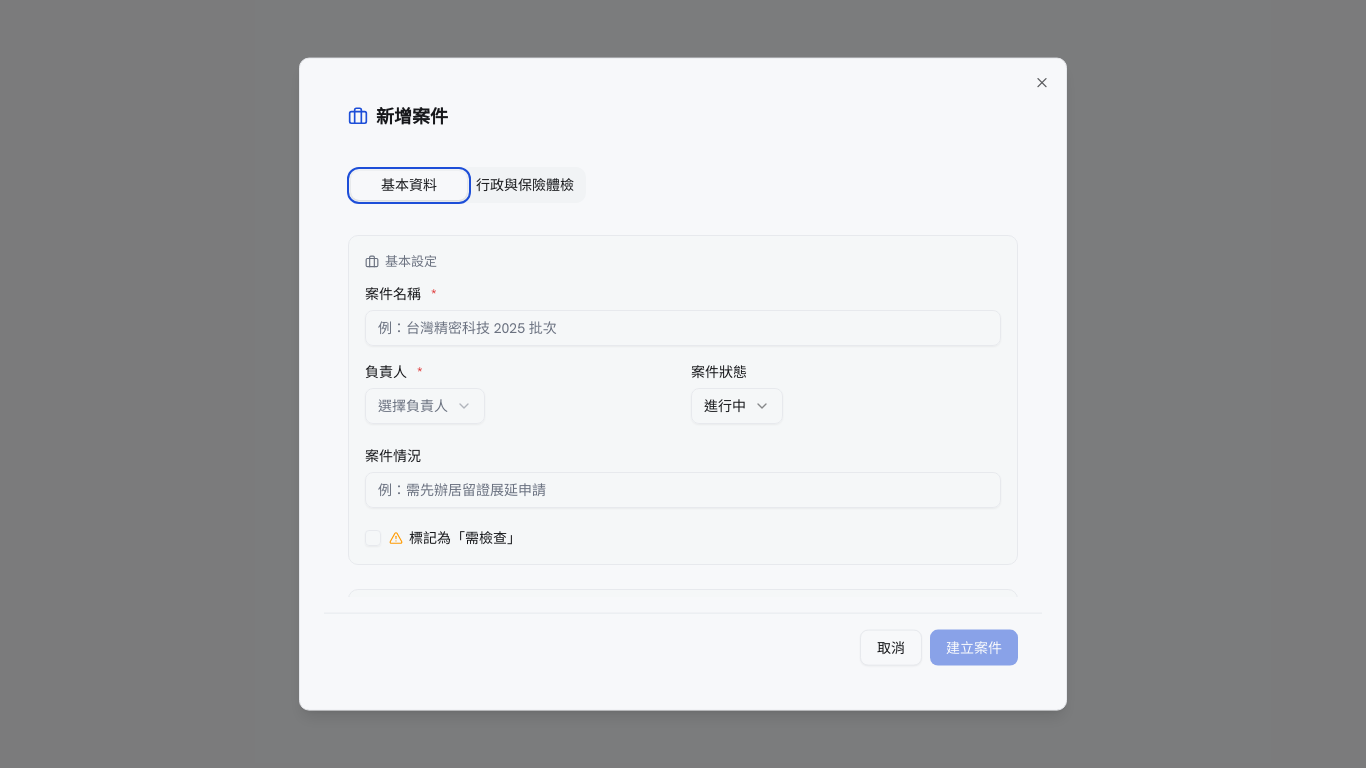
Test: CaseModal 的必填判斷 › 名稱只有 1 字時，tooltip 會說明至少要 2 字
Type "王" into the field with placeholder "例：台灣精密科技 2025 批次" at point(683, 327), box [365,309,1001,345]
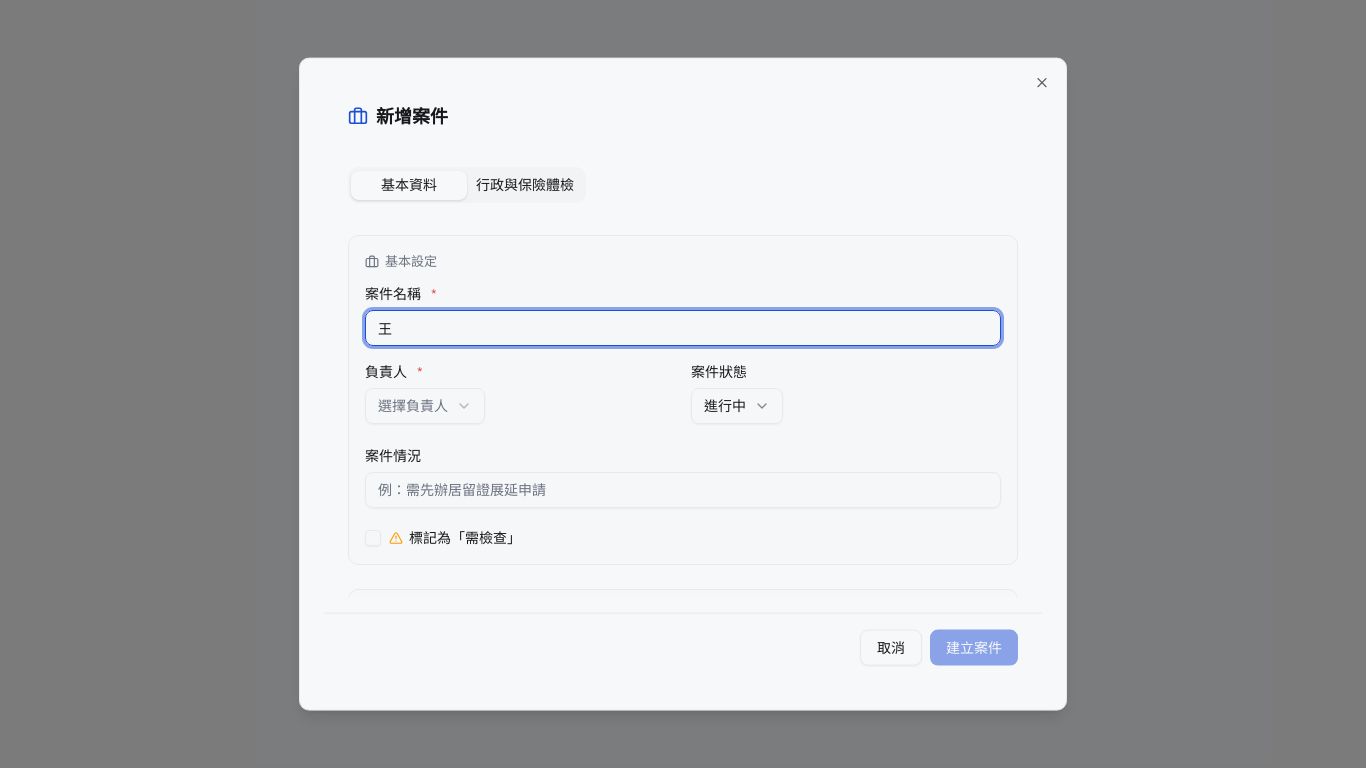
Click the dropdown labelled "選擇負責人" at point(425, 405), box [365,387,485,423]
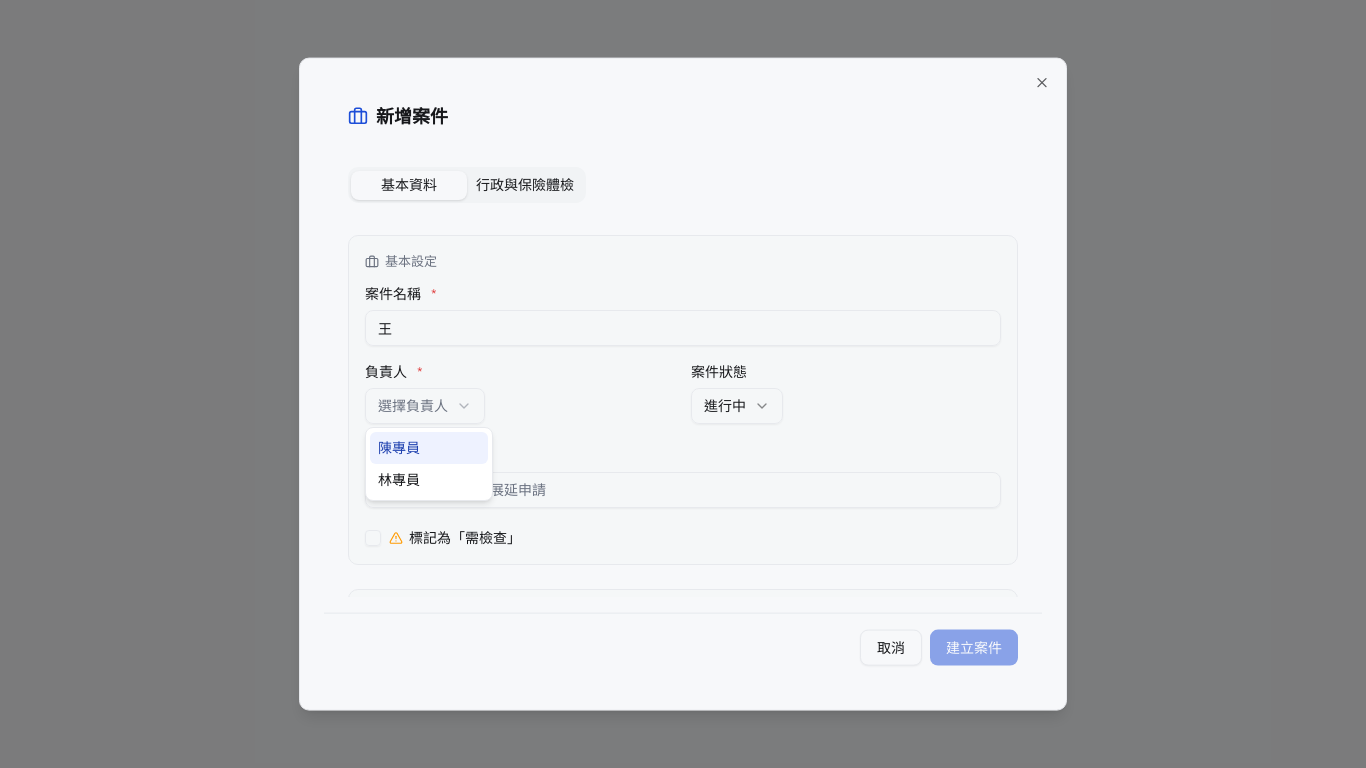
Click the option "陳專員" at point(429, 448), box [370,432,488,464]
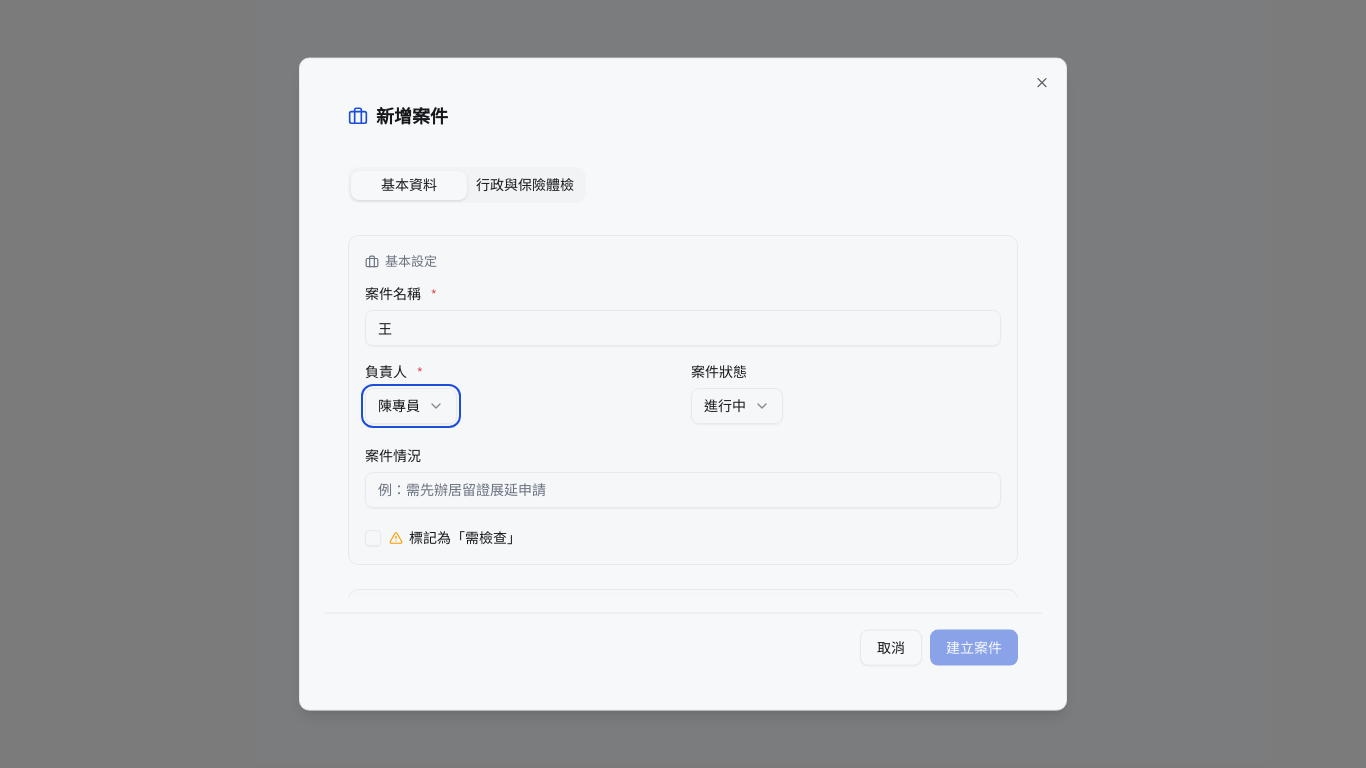
Hover over the element with test id "case-modal-submit-wrap" at point(974, 647), box [930,629,1018,665]
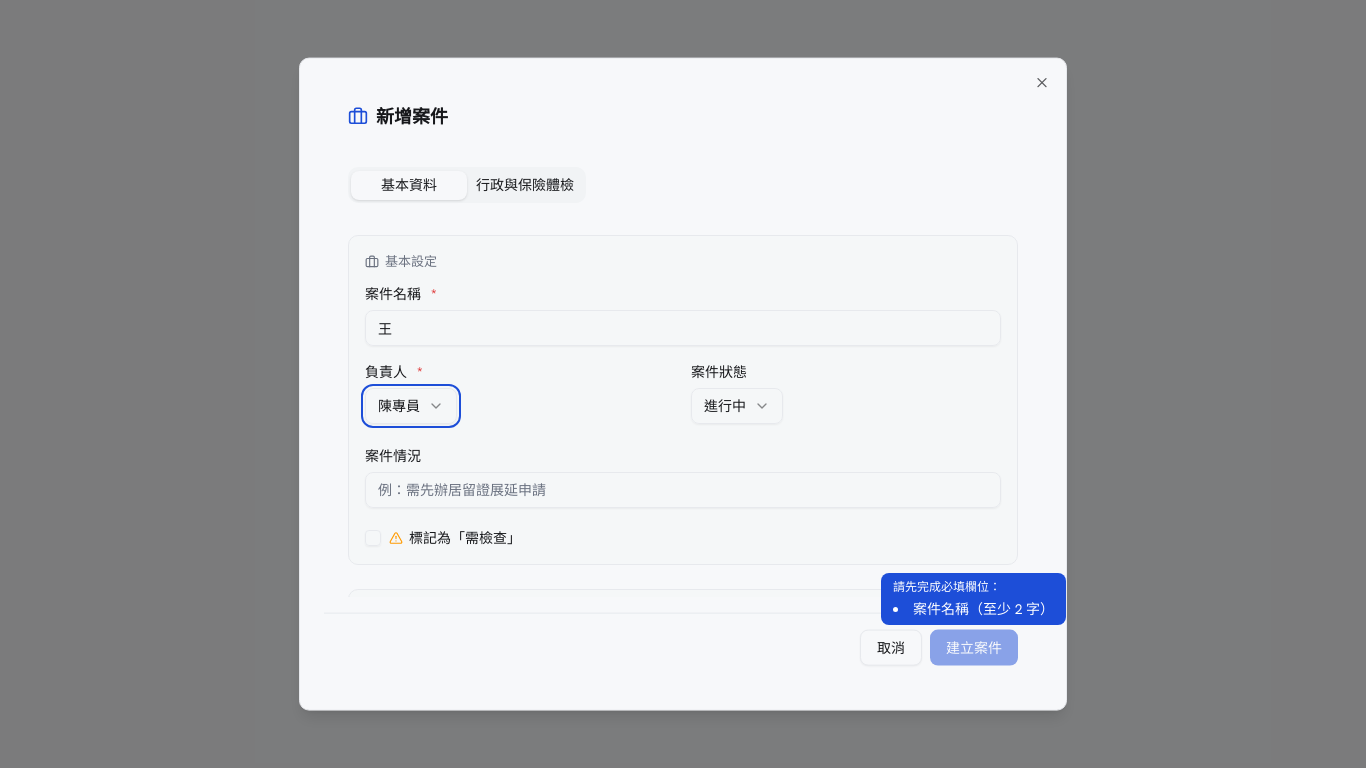
Check: the tooltip shows "案件名稱（至少 2 字）", box [913,600,1054,618]
